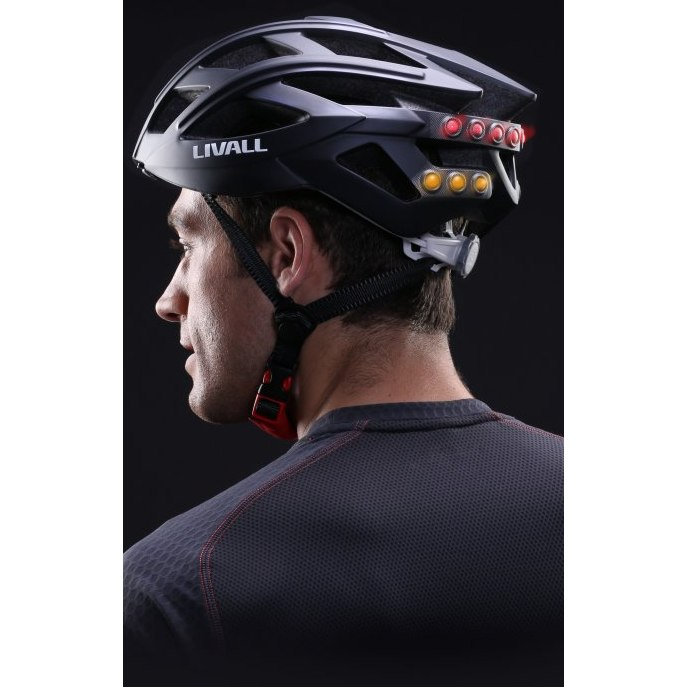helmet: (131, 14, 540, 229)
